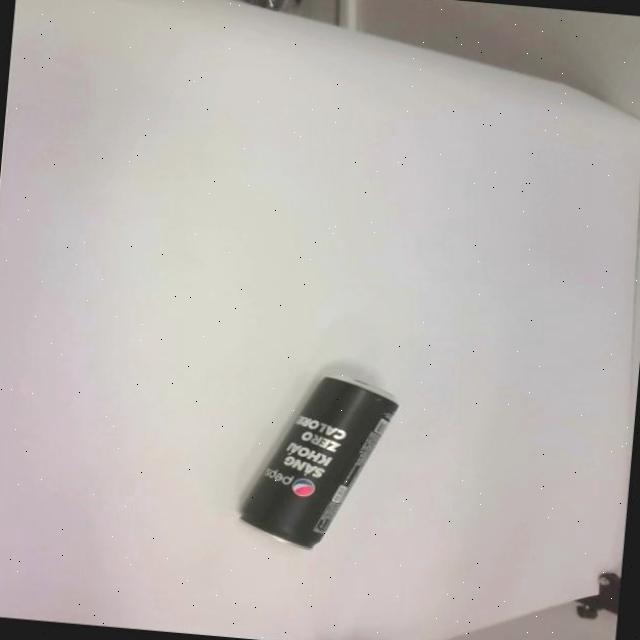debris: (232, 368, 401, 556)
